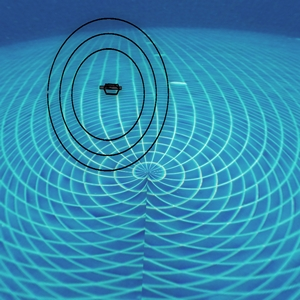submarine: (101, 84, 124, 99)
